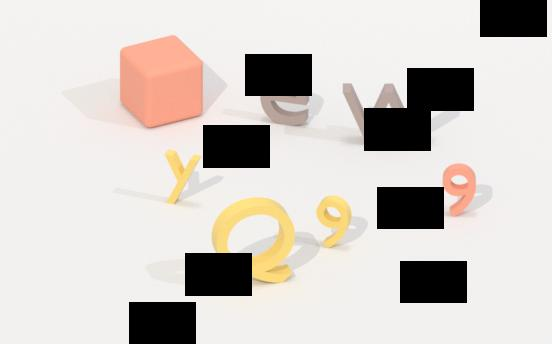9: (315, 194, 354, 252), (441, 161, 479, 219)
Y: (163, 149, 202, 207)
e: (258, 70, 312, 130)
hop: (117, 34, 206, 133)
q: (211, 194, 296, 288)
w: (341, 77, 438, 149)
